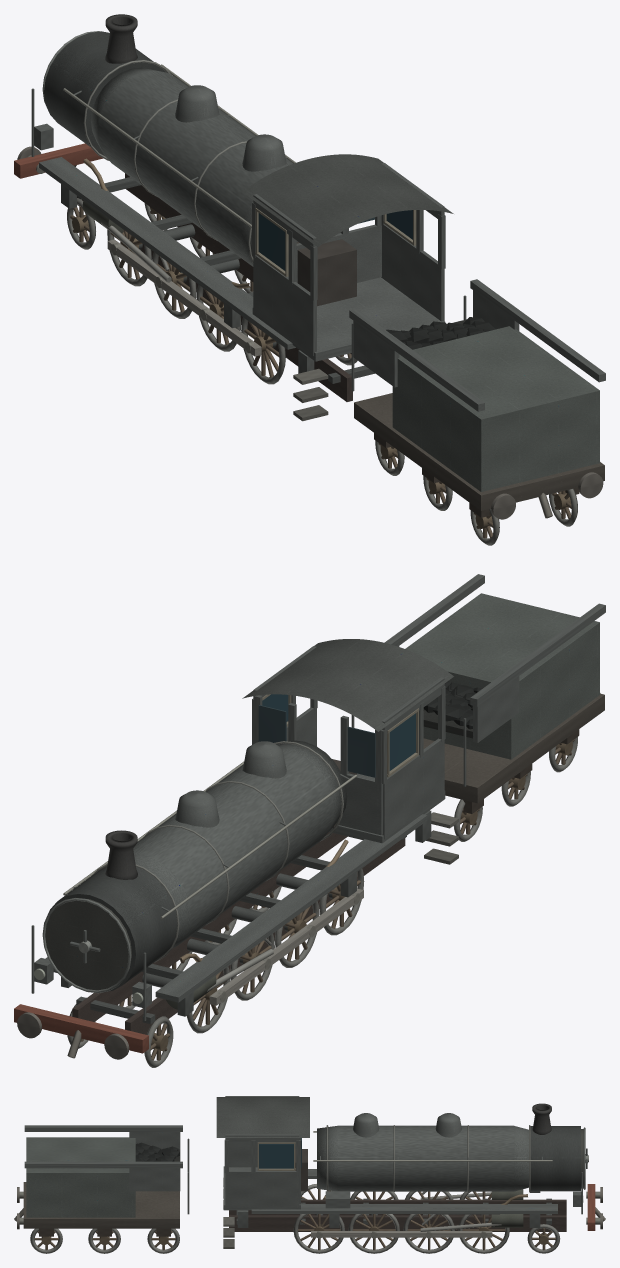
Rendered from m01_locomotive_freight_lod0.glb.
The picture shows the model from 3 angles, top to bottom: view 1: azimuth 30°, elevation 25°; view 2: azimuth 150°, elevation 25°; view 3: azimuth 270°, elevation 25°; orthographic projection. The views are drawn at different scales.
Visible parts, largest first — view 1: paint_and_soot, exposed_metal, glazed_windows; view 2: paint_and_soot, exposed_metal, glazed_windows; view 3: paint_and_soot, exposed_metal, glazed_windows.
Boxes of the visible parts, x1=… form: paint_and_soot: x1=14, y1=14, x2=605, y2=538; exposed_metal: x1=28, y1=31, x2=577, y2=545; glazed_windows: x1=258, y1=210, x2=412, y2=270; paint_and_soot: x1=14, y1=574, x2=605, y2=1060; exposed_metal: x1=31, y1=694, x2=577, y2=1067; glazed_windows: x1=34, y1=694, x2=415, y2=1003; paint_and_soot: x1=17, y1=1096, x2=602, y2=1250; exposed_metal: x1=14, y1=1127, x2=605, y2=1253; glazed_windows: x1=259, y1=1138, x2=583, y2=1202.
Size of the model in its own units: 3.16 by 4.22 by 16.82.
Materials: 3 (2 with a texture image).
